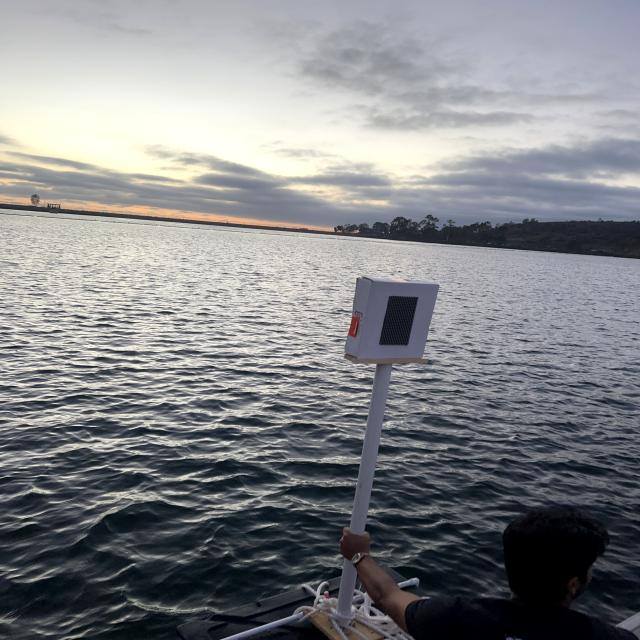led: (367, 284, 426, 363)
